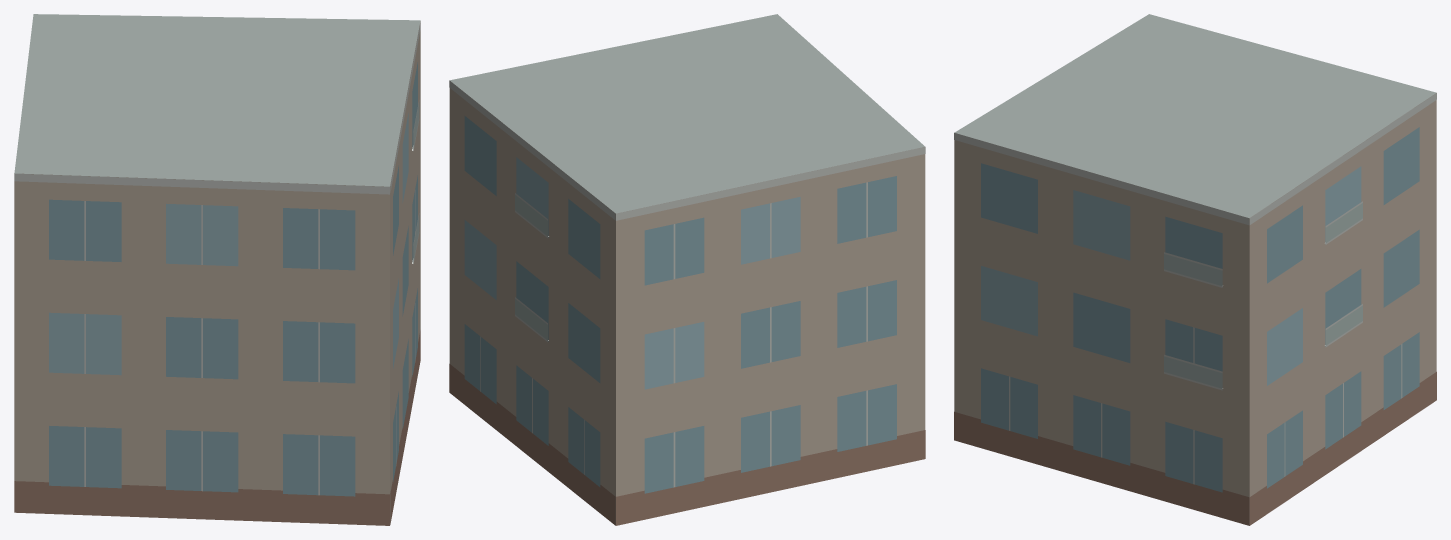
The model's file is survey-upis-32832218.glb.
The picture shows the model from 3 angles, left to right: view 1: azimuth 30°, elevation 25°; view 2: azimuth 150°, elevation 25°; view 3: azimuth 270°, elevation 25°; orthographic projection. The views are drawn at different scales.
Parts seen in each view (by area): view 1: survey-upis-32832218.tmp; view 2: survey-upis-32832218.tmp; view 3: survey-upis-32832218.tmp.
Boxes of the visible parts, bbox=[...] form: survey-upis-32832218.tmp: bbox=[14, 14, 420, 525]; survey-upis-32832218.tmp: bbox=[449, 14, 925, 525]; survey-upis-32832218.tmp: bbox=[954, 14, 1436, 525].
Bounding box in the file's own units: 14.96 × 10.5 × 14.94.
